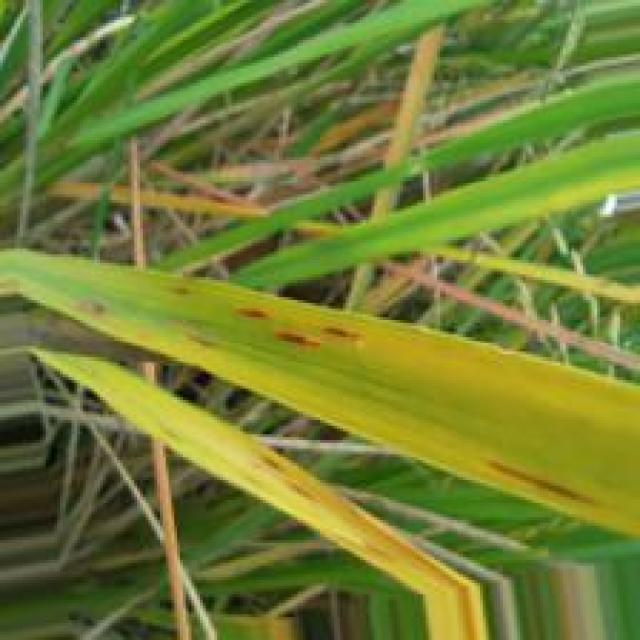Narrow_Brown_Leaf_Spot: (53, 267, 640, 540)
